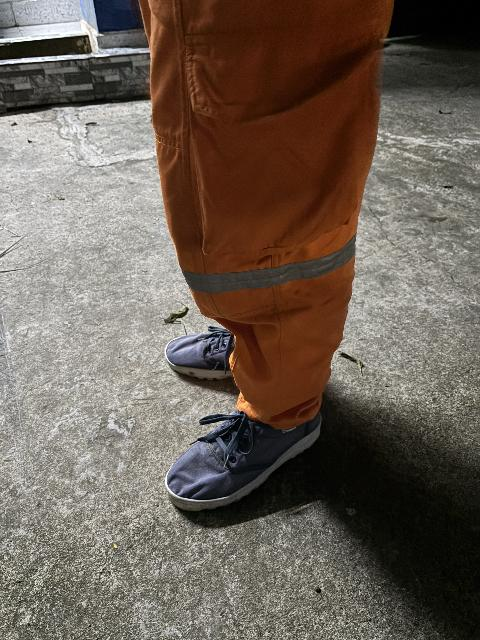shoes: (105, 380, 316, 504), (151, 319, 257, 381)
